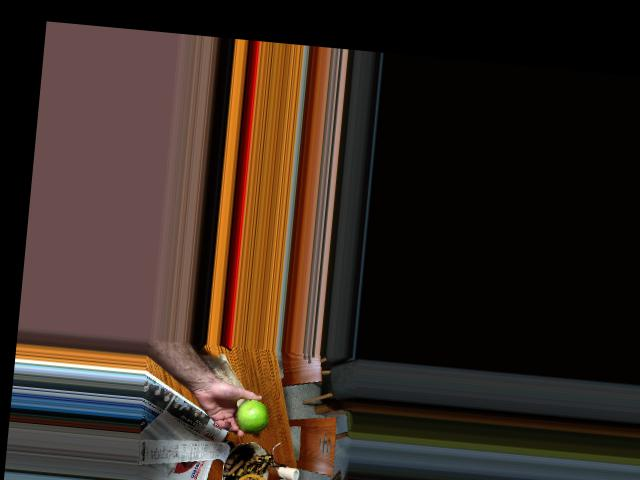apple: (234, 399, 271, 435)
